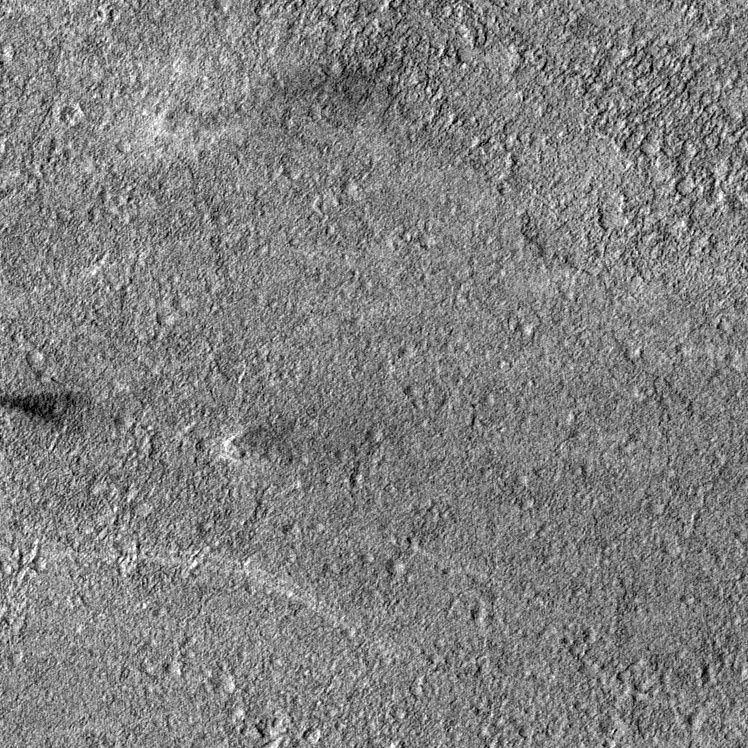dust_devil: (141, 62, 381, 148), (217, 418, 298, 465)
